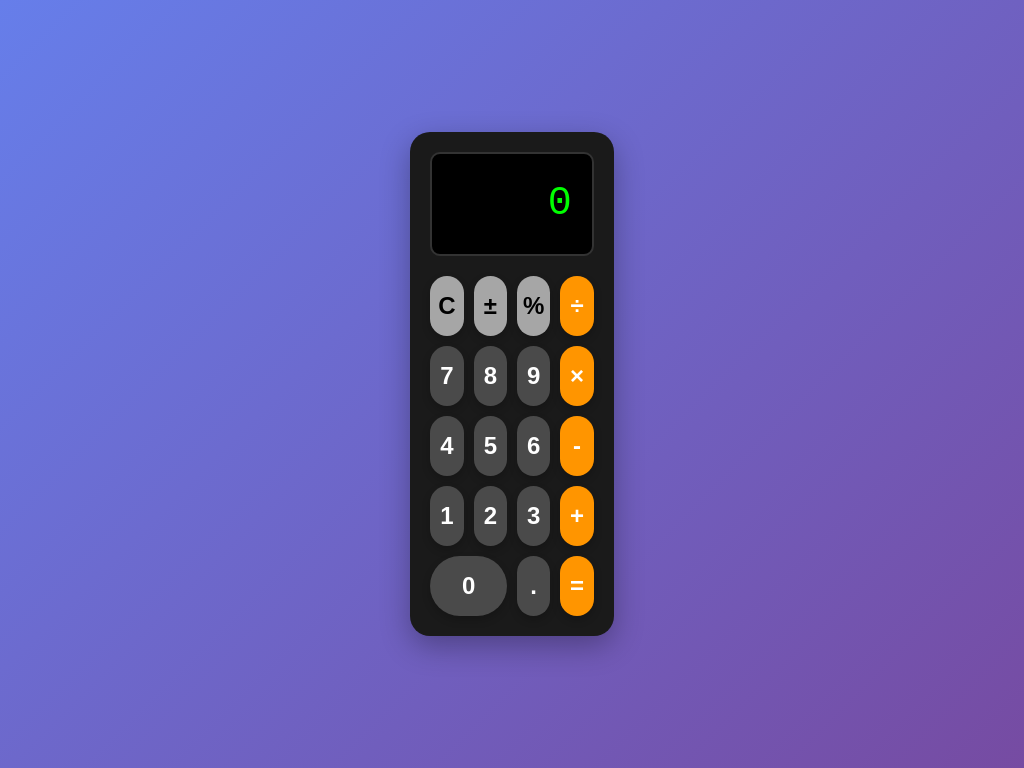
Test: Calculator › displays numbers when number buttons are clicked
Click the button "1": (447, 516) [430,486,464,546]
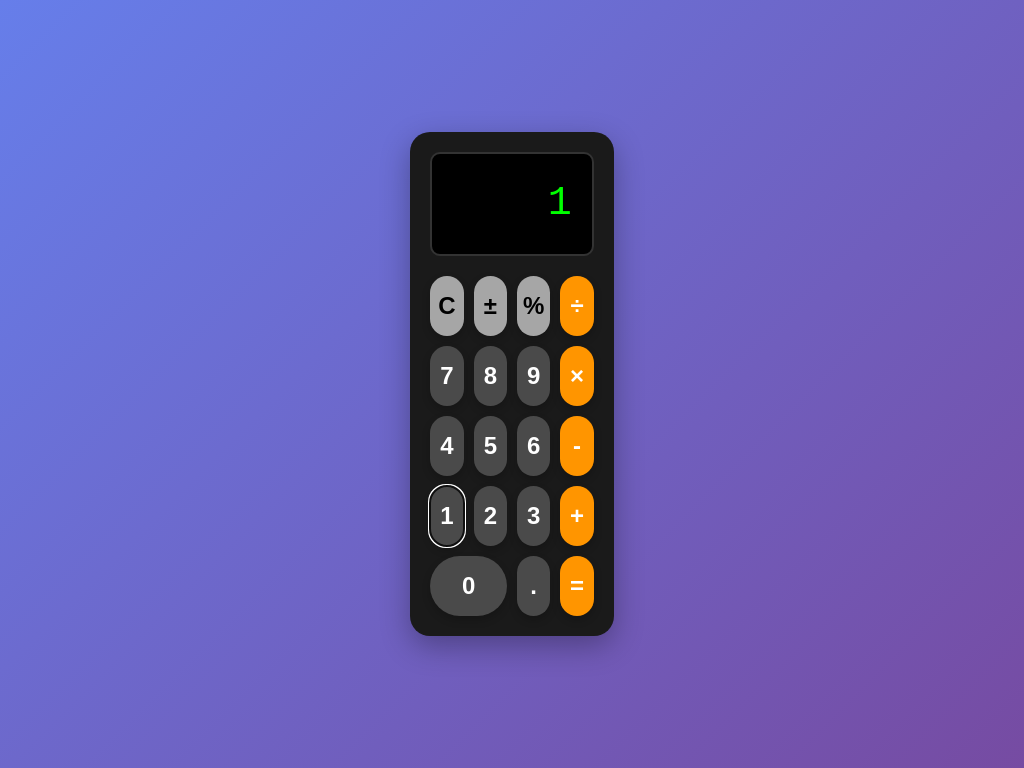
expect the text with class "display-value" reads "1": met, box [548,181,572,226]
Click the button "2": (490, 516) [474,486,507,546]
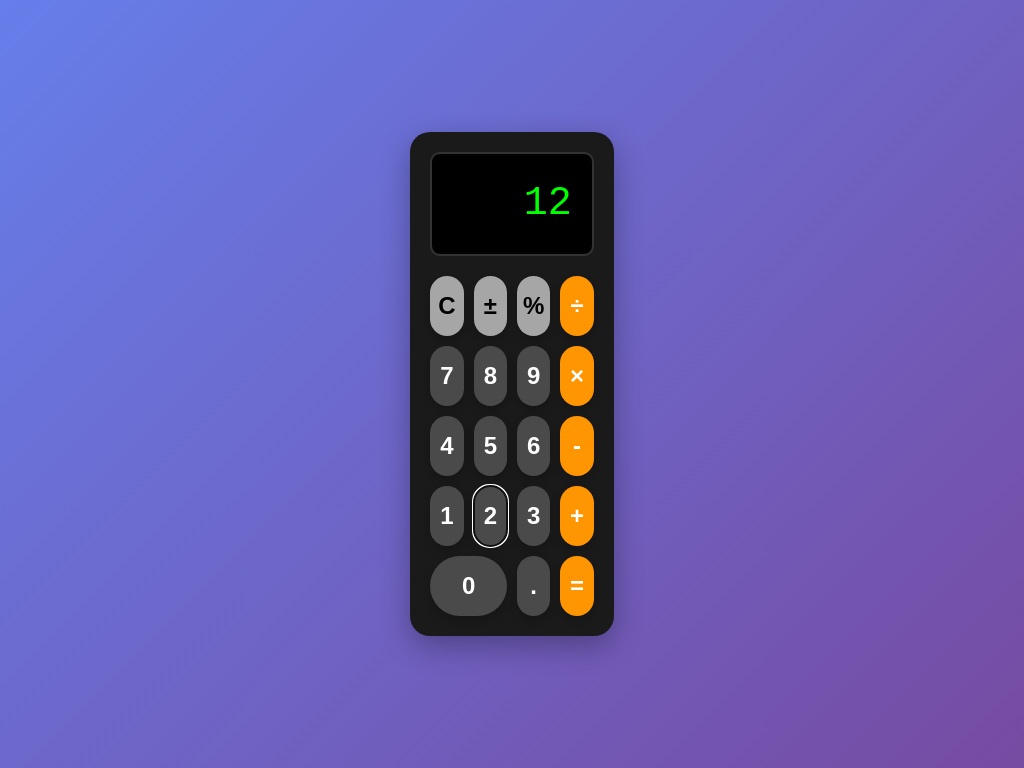
expect the text with class "display-value" reads "12": met, box [524,181,572,226]
